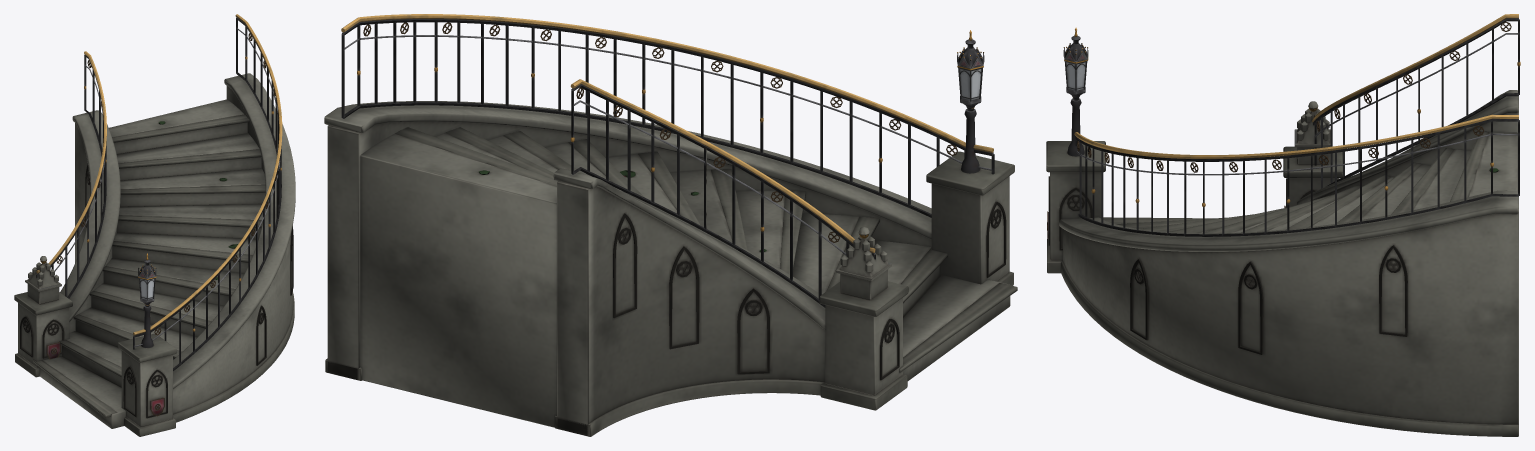
Rendered from EntranceSweepL.fbx.
3 renders of one model, left to right at view 1: azimuth 30°, elevation 25°; view 2: azimuth 150°, elevation 25°; view 3: azimuth 270°, elevation 25°, orthographic. The views are drawn at different scales.
Visible parts, largest first — view 1: EntranceSweepL_Main, EntranceSweepL_Cheeks, EntranceSweepL_Newels, EntranceSweepL_Rail; view 2: EntranceSweepL_Main, EntranceSweepL_Cheeks, EntranceSweepL_Rail, EntranceSweepL_Newels; view 3: EntranceSweepL_Cheeks, EntranceSweepL_Rail, EntranceSweepL_Main, EntranceSweepL_Newels, EntranceSweepL_Glass.
Part boxes in pixels (x1,y1,x2,y2): EntranceSweepL_Main: [33, 99, 265, 428]; EntranceSweepL_Cheeks: [60, 73, 295, 422]; EntranceSweepL_Newels: [14, 253, 176, 436]; EntranceSweepL_Rail: [36, 14, 282, 370]; EntranceSweepL_Main: [360, 127, 1017, 427]; EntranceSweepL_Cheeks: [324, 101, 931, 436]; EntranceSweepL_Rail: [341, 14, 994, 307]; EntranceSweepL_Newels: [819, 30, 1014, 410]; EntranceSweepL_Cheeks: [1059, 90, 1518, 436]; EntranceSweepL_Rail: [1074, 14, 1520, 236]; EntranceSweepL_Main: [1103, 131, 1517, 233]; EntranceSweepL_Newels: [1046, 27, 1342, 273]; EntranceSweepL_Glass: [1066, 62, 1085, 90].
Size of the model in its own units: 1273 by 930 by 1273.
